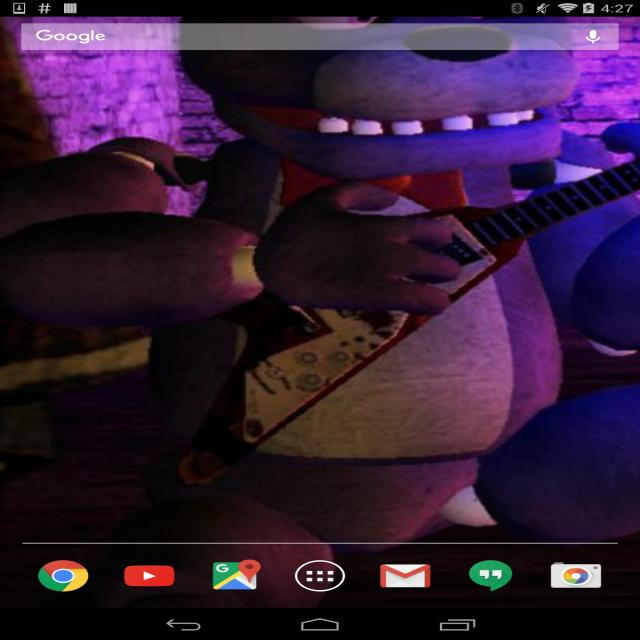button: (194, 559, 274, 596), (366, 556, 440, 596), (538, 556, 612, 596), (456, 555, 526, 597), (117, 557, 182, 593), (290, 557, 348, 597), (35, 557, 92, 594), (574, 27, 612, 45)
field: (22, 24, 616, 49)
image: (3, 15, 638, 604)
label: (35, 28, 108, 46)
